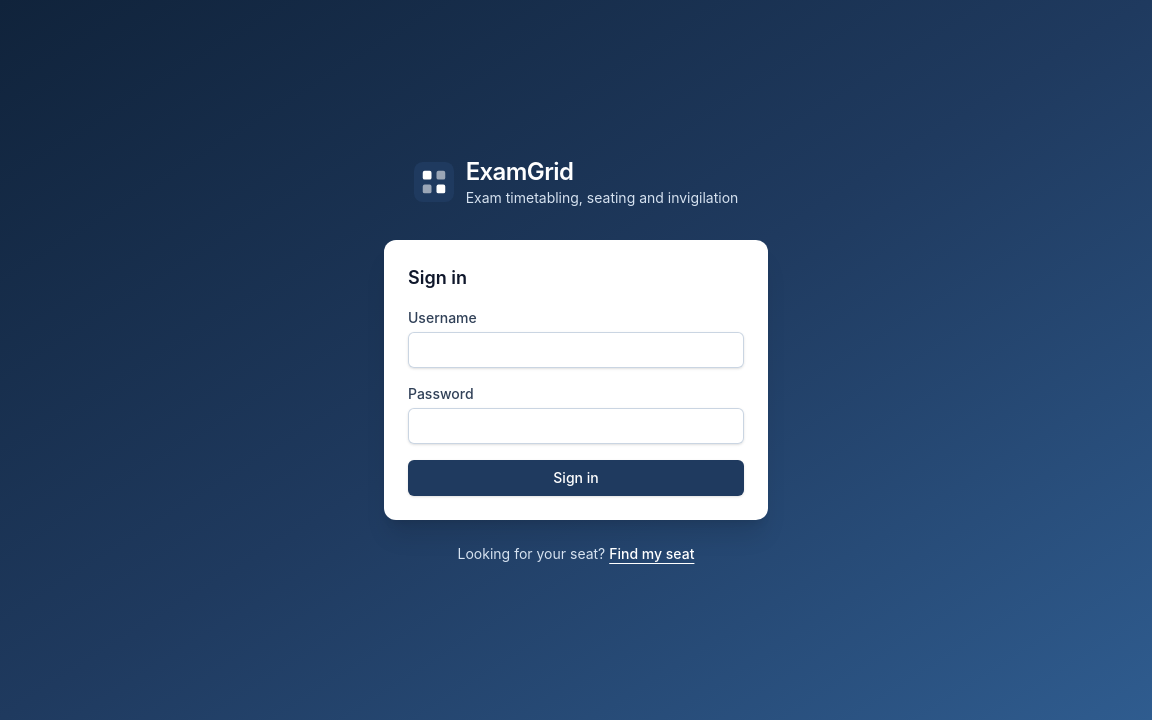
LoginPage › shows the API problem when credentials are wrong
The width and height of the screenshot is (1152, 720).
In the field labelled "Username": coordinates (576, 350) [408,332,744,368], type "admin"
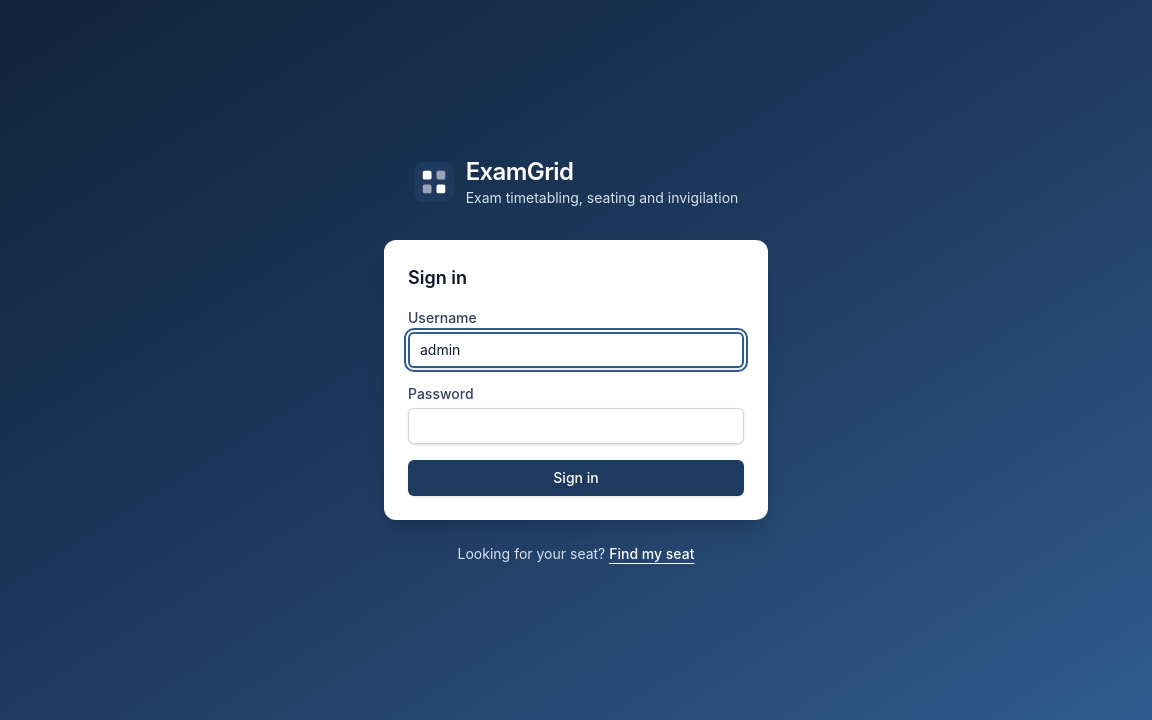
In the password field labelled "Password": coordinates (576, 426) [408,408,744,444], type "nope"
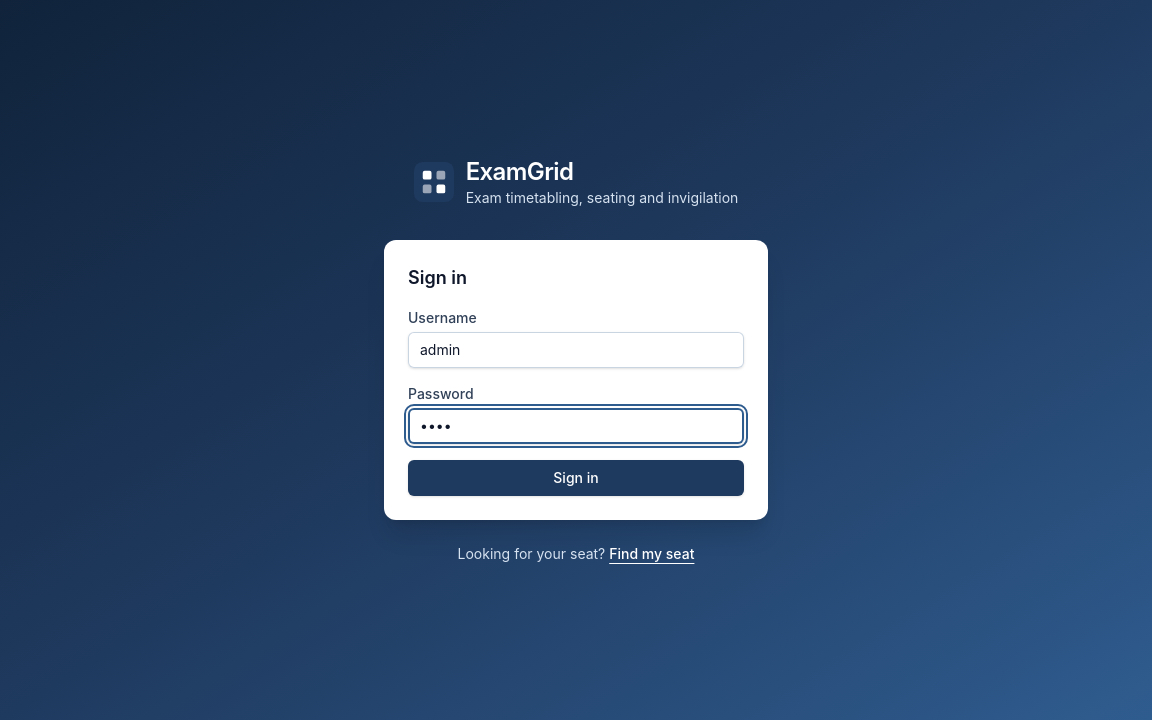
Click the button "Sign in": coordinates (576, 478) [408,460,744,496]
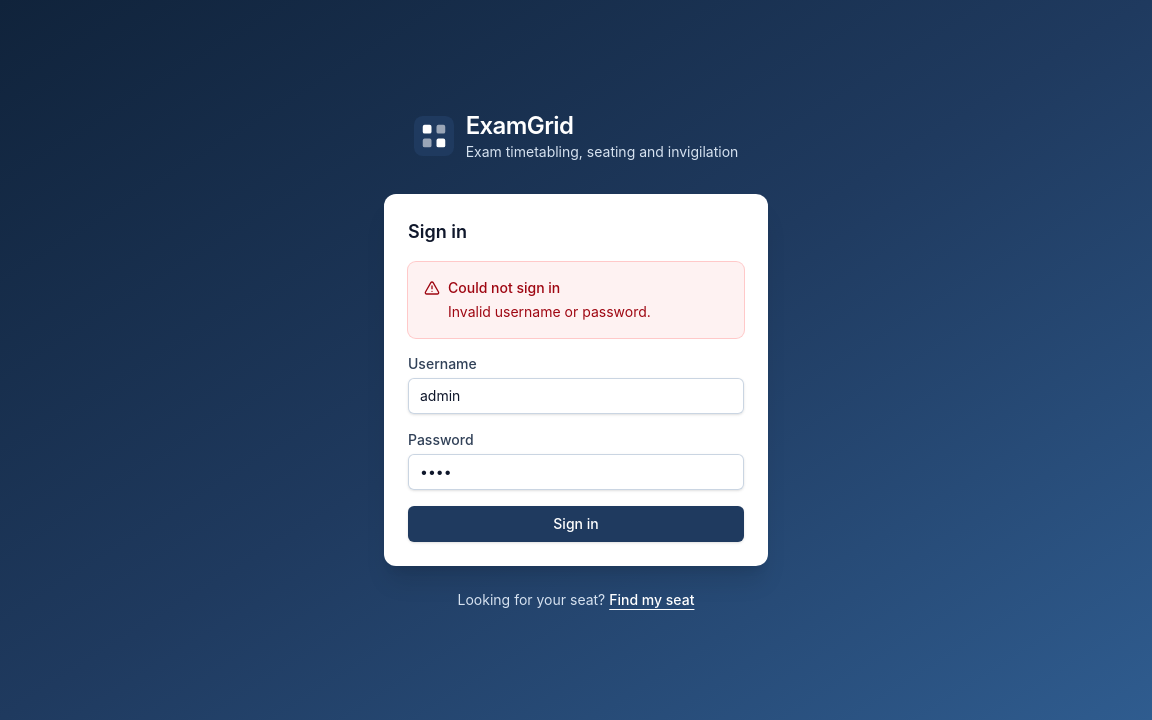
expect the message shows "Invalid username or password.": met, box [448,303,651,320]
